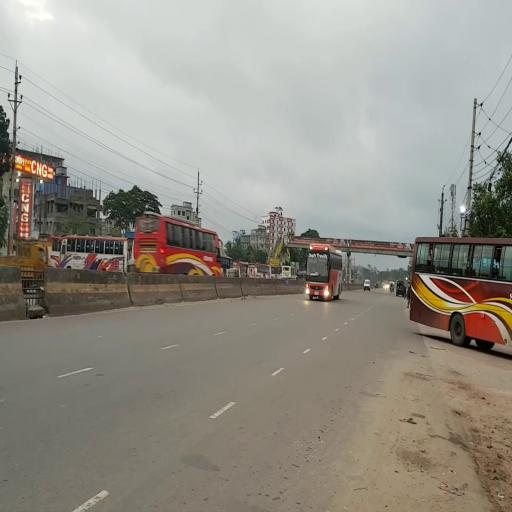bus: (411, 233, 512, 349), (62, 237, 130, 271), (307, 244, 344, 302)
policecar: (397, 281, 405, 296)
suv: (365, 279, 372, 292)
